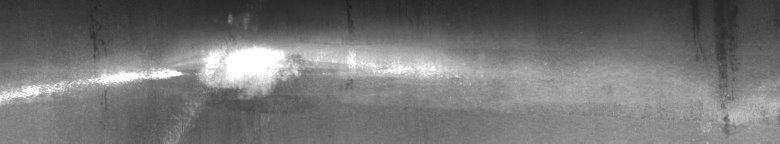ke: (4, 6, 461, 120)
